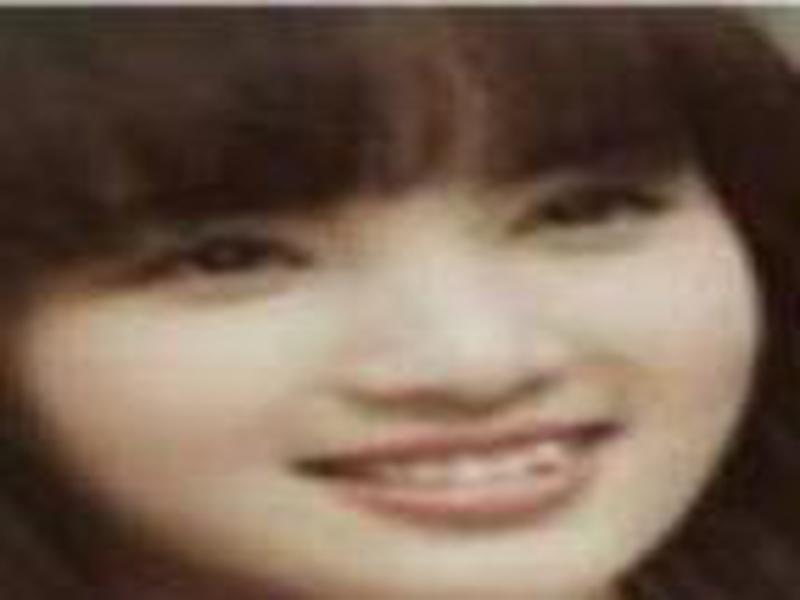without_mask: (17, 121, 761, 589)
